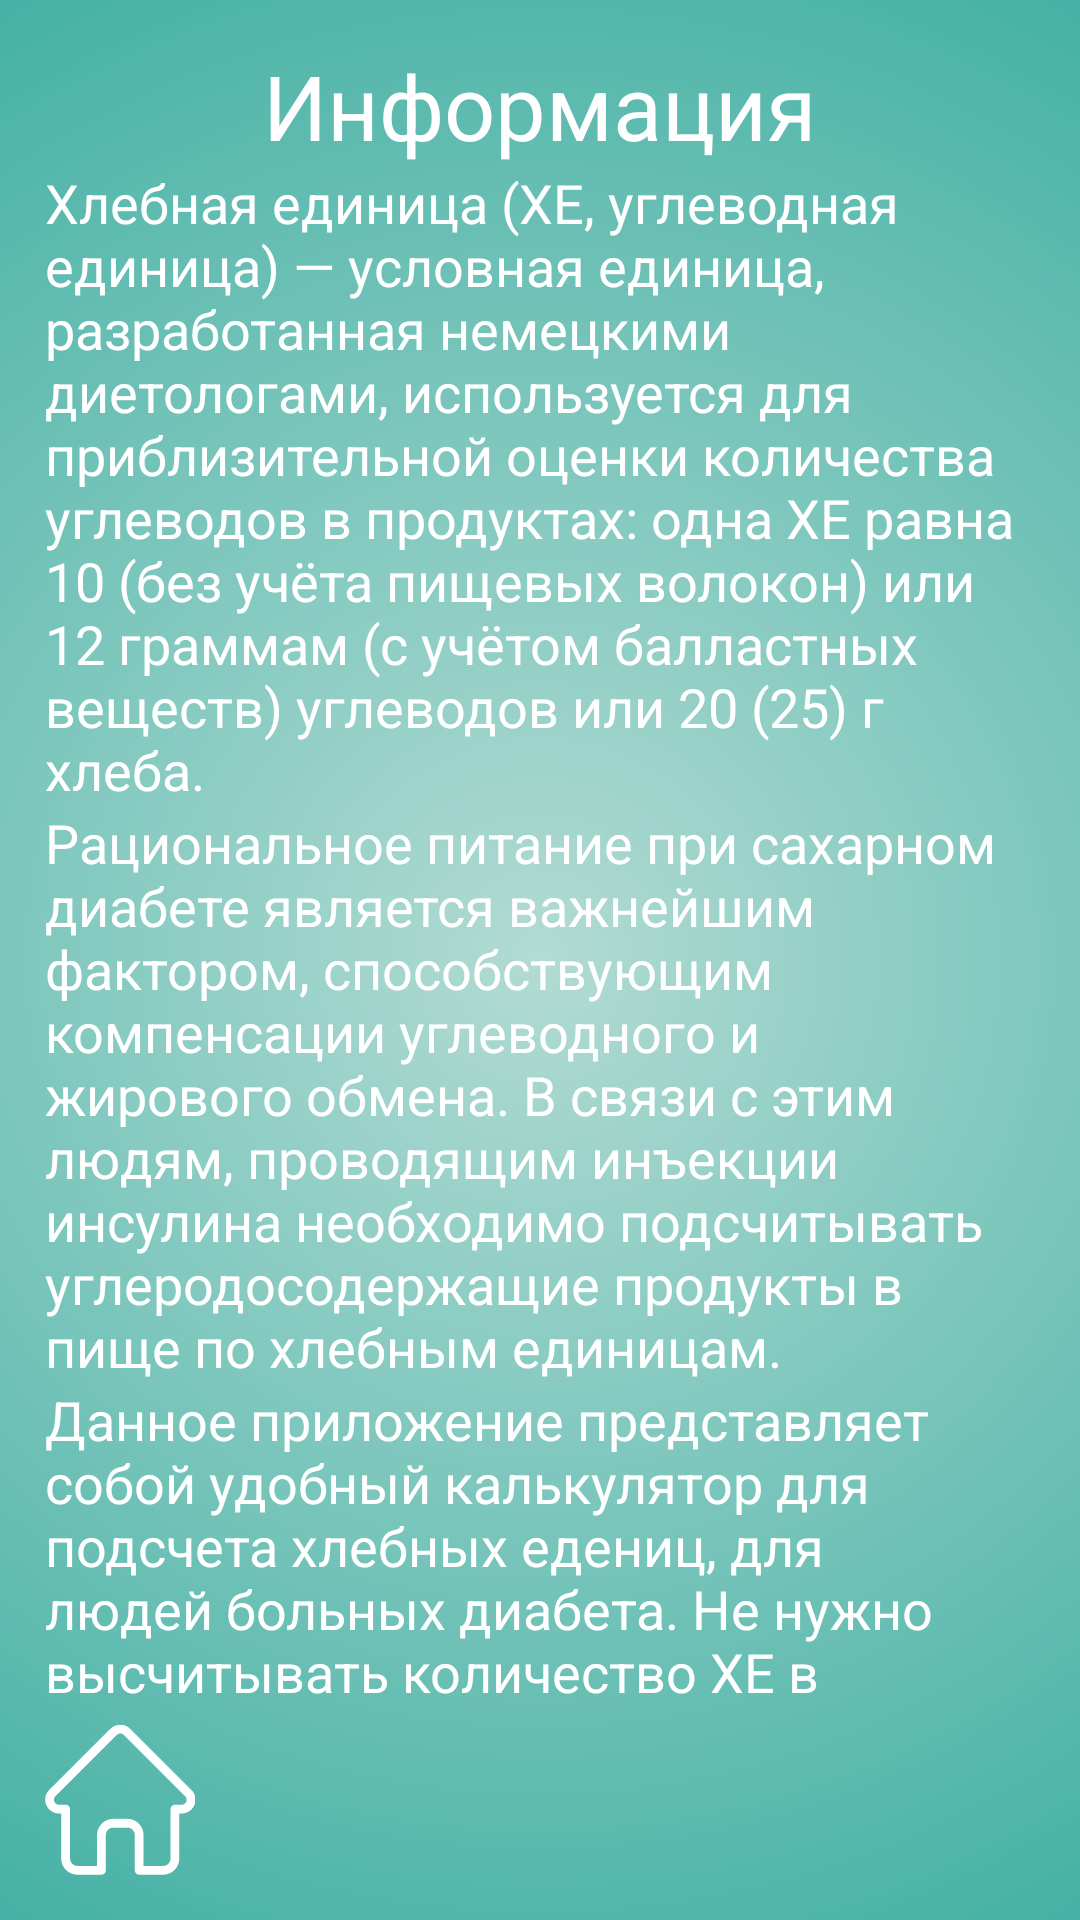

Screen size 1080w x 1920h. Icon name, then its center in pixels as (x=x, y=y):
home: (x=120, y=1800)
